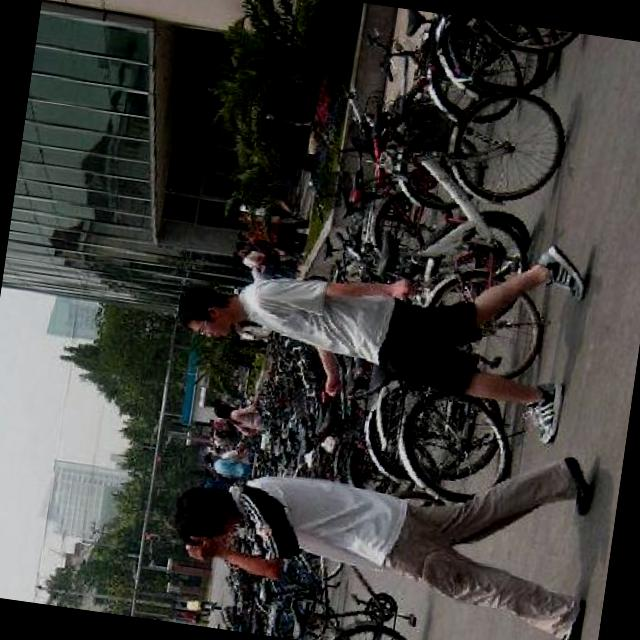Person: (167, 184, 604, 446), (161, 399, 612, 640)
